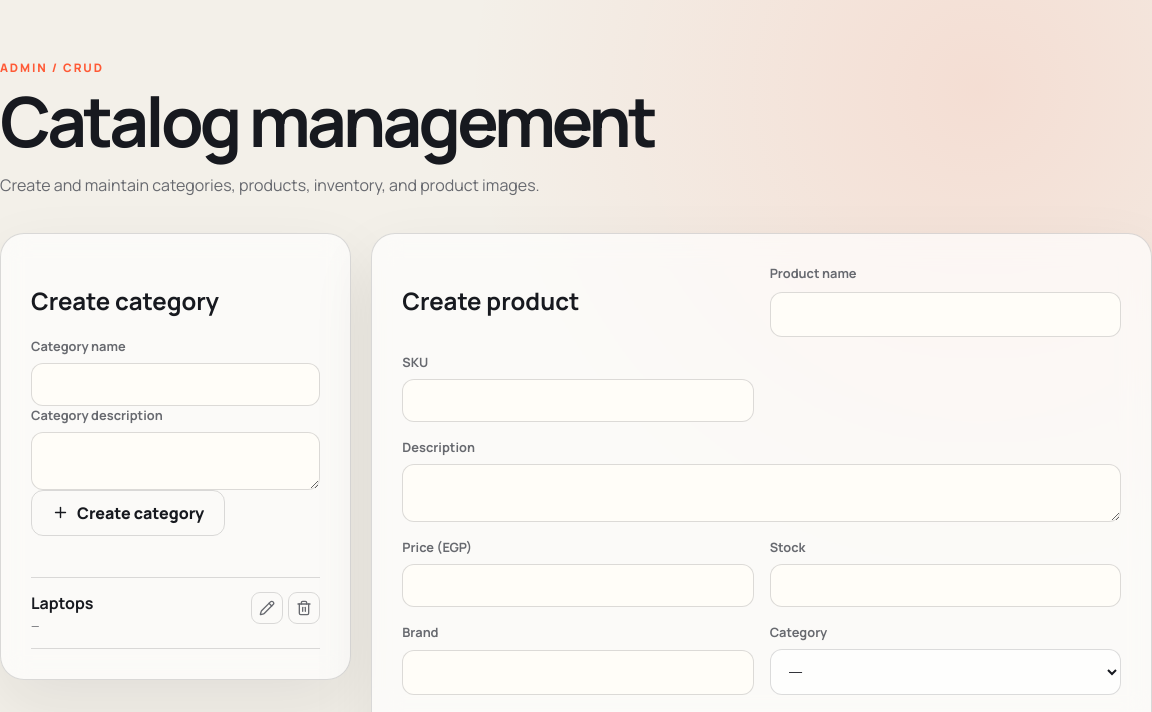
Test: AdminCatalogPage cache synchronization › invalidates the statistics query after a successful catalog mutation
The image size is (1152, 712).
Check: the heading "Create category" is shown, box [31, 284, 219, 317]
Type "Accessories" into the field labelled "Category name".
click(176, 384); type("Accessories")  # box [31, 363, 320, 406]
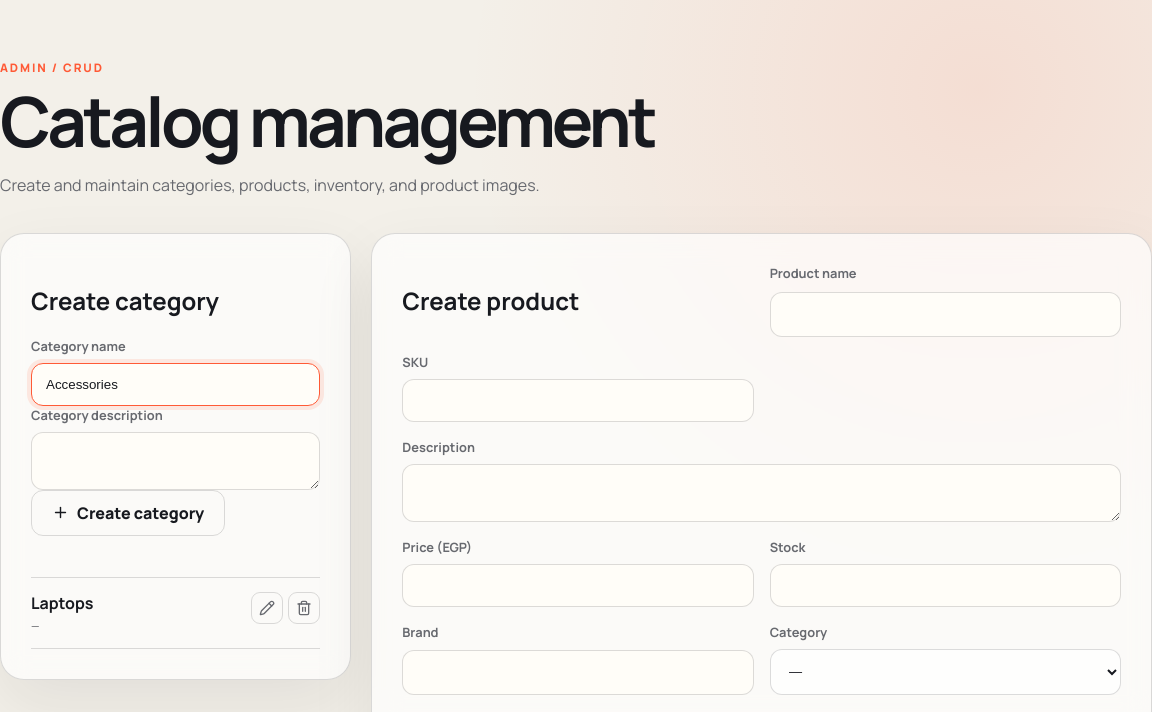
Click the button "Create category".
click(128, 513)  # box [31, 490, 225, 536]
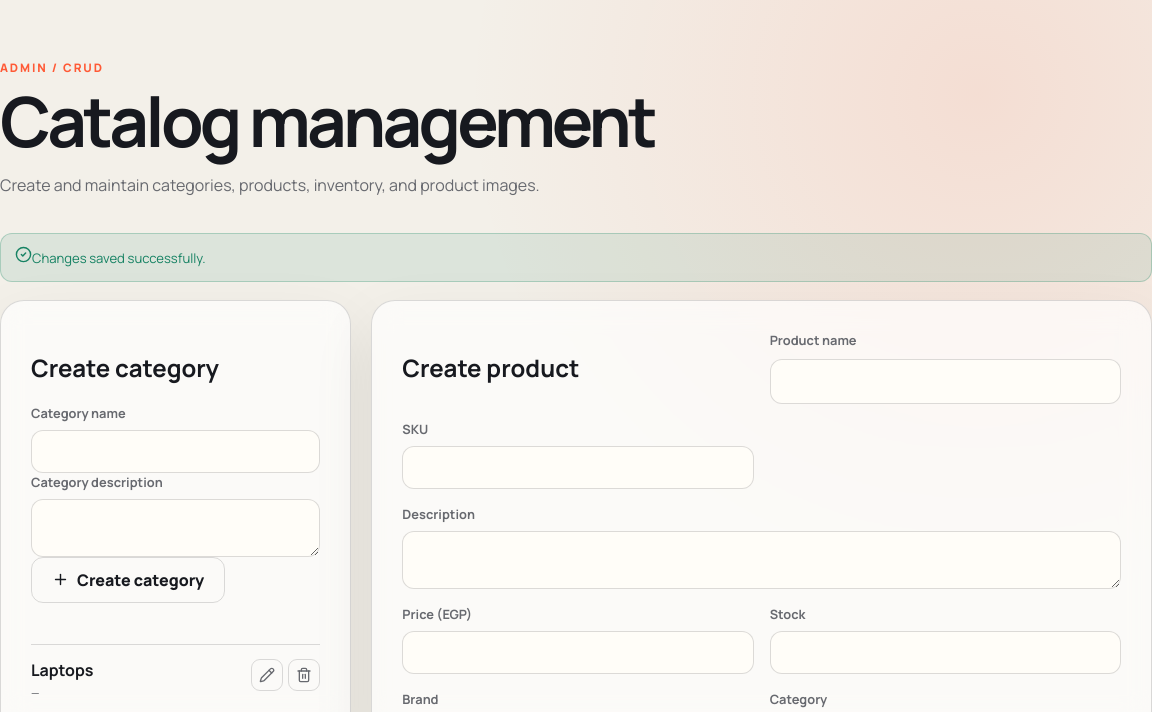
Check: the text "Changes saved successfully." is shown, box [0, 233, 1151, 282]
